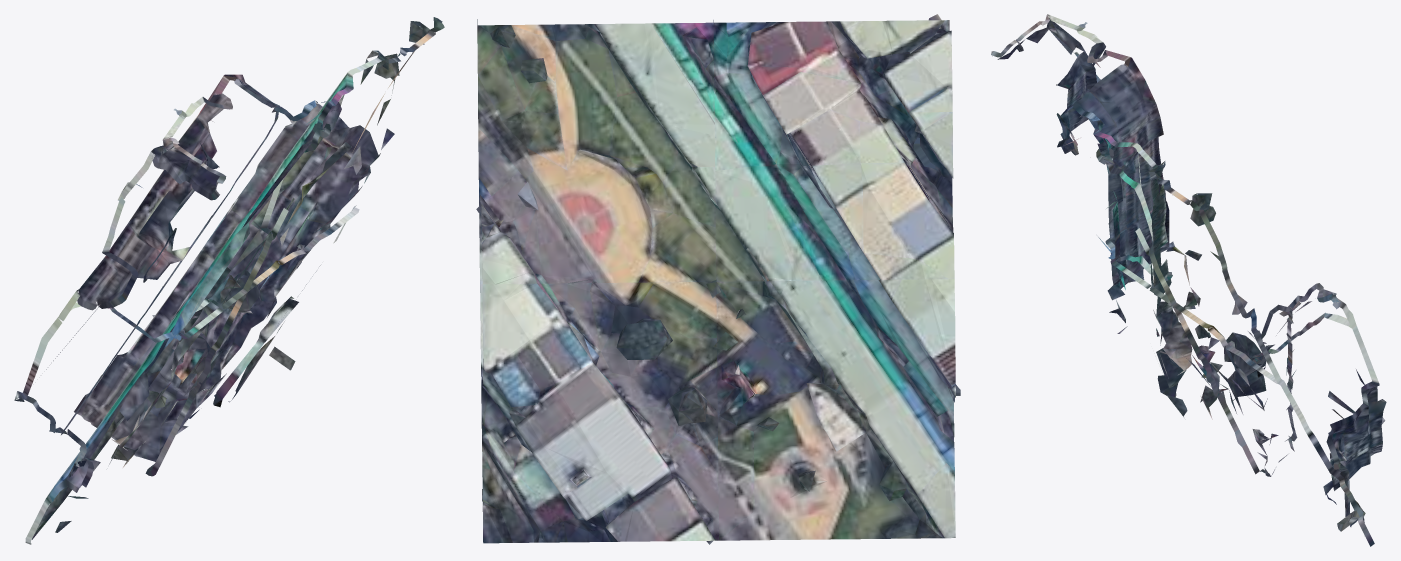
The picture shows the model from 3 angles, left to right: view 1: azimuth 30°, elevation 25°; view 2: azimuth 150°, elevation 25°; view 3: azimuth 270°, elevation 25°; orthographic projection. The views are drawn at different scales.
Bounding box in the file's own units: 78.95 × 76.48 × 65.3.
2 materials, 2 textured.
